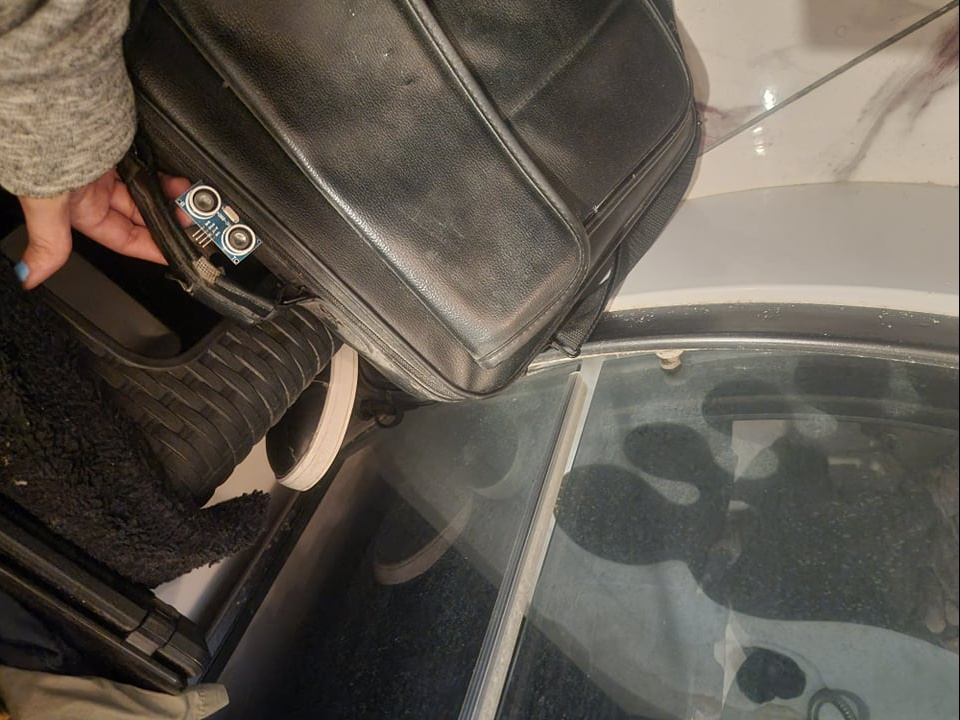SENSOR: (172, 180, 262, 266)
